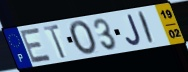3: (93, 17, 117, 51)
E: (19, 26, 53, 65)
I: (137, 10, 156, 46)
J: (125, 13, 143, 47)
O: (68, 20, 99, 57)
T: (42, 24, 68, 61)
